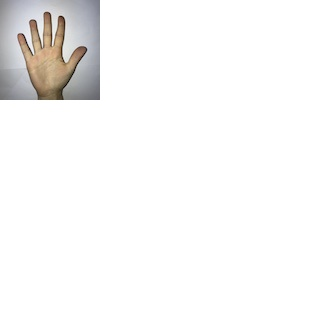paper: (13, 8, 88, 95)
